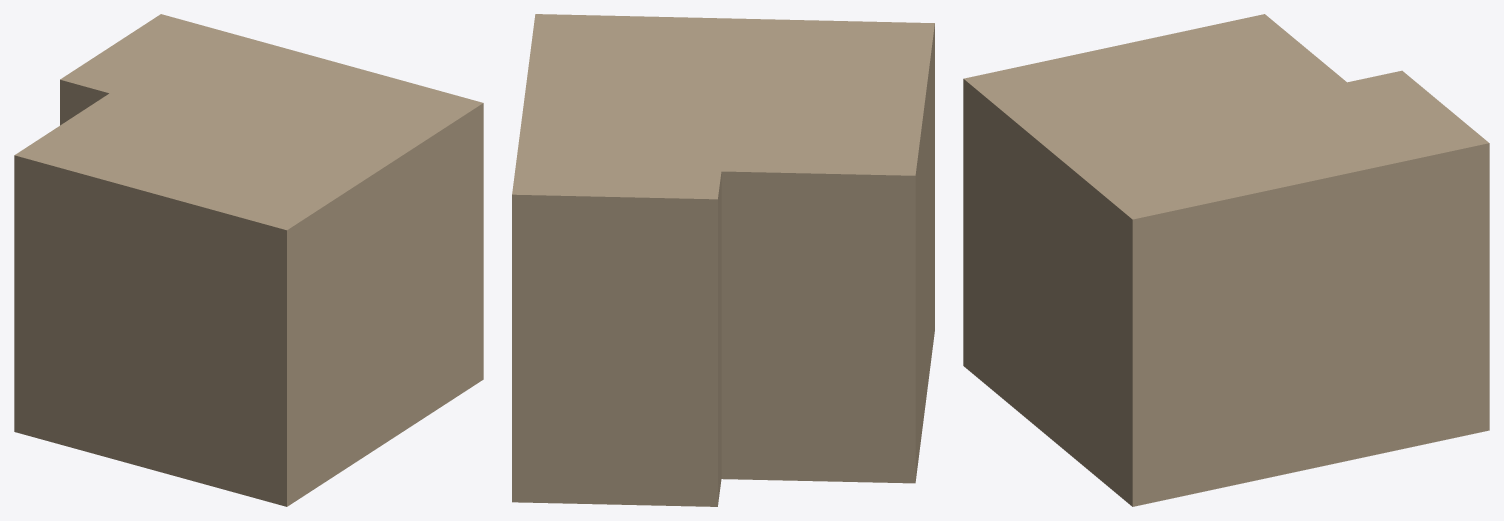
Rendered from bld_106456363.dae.
3 renders of one model, left to right at view 1: azimuth 30°, elevation 25°; view 2: azimuth 150°, elevation 25°; view 3: azimuth 270°, elevation 25°, orthographic. The views are drawn at different scales.
Visible parts, largest first — view 1: bld_106456363; view 2: bld_106456363; view 3: bld_106456363.
Part boxes in pixels (<box>): bld_106456363: <box>14,14,483,506</box>; bld_106456363: <box>512,14,934,506</box>; bld_106456363: <box>963,14,1489,506</box>.
Size of the model in its own units: 12.27 by 13.27 by 8.
